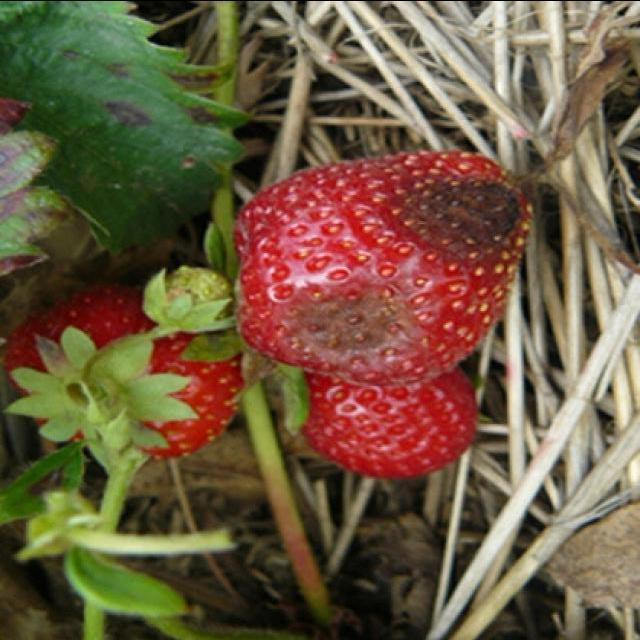Anthracnose Fruit Rot: (236, 149, 535, 387)
